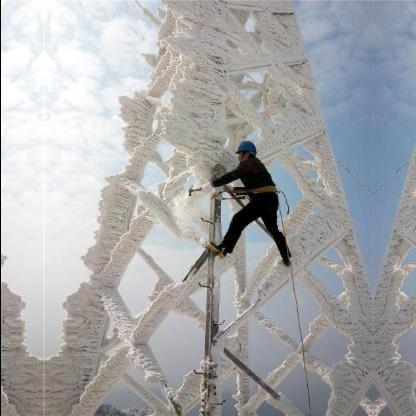Helmet: (232, 136, 258, 164)
